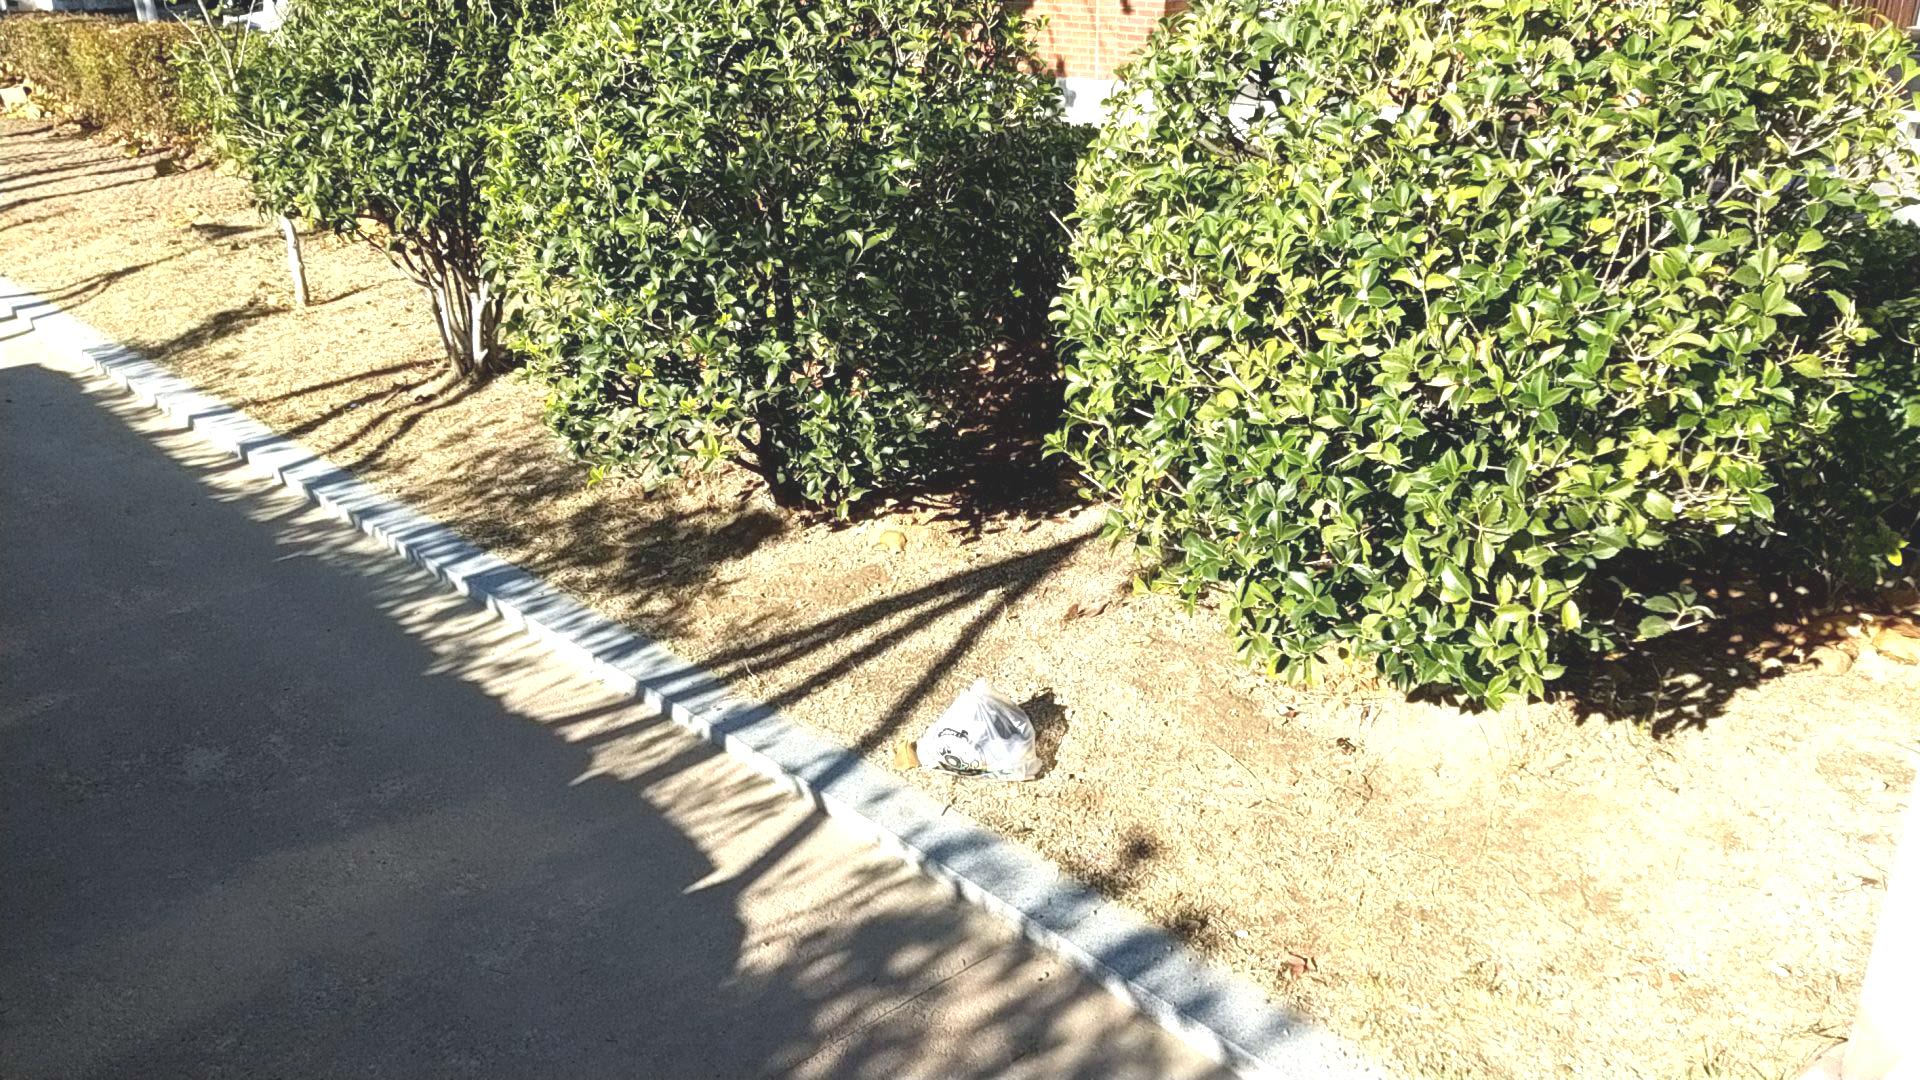white_bag: (887, 675, 1062, 793)
